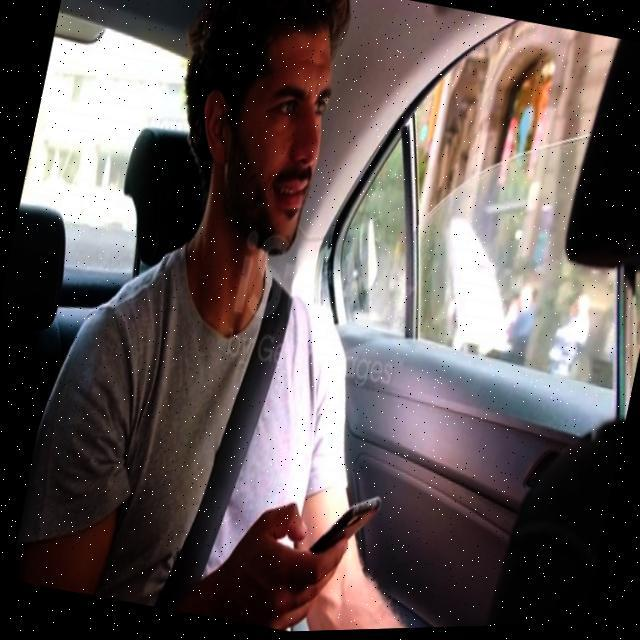PhoneCall: (290, 483, 381, 594)
